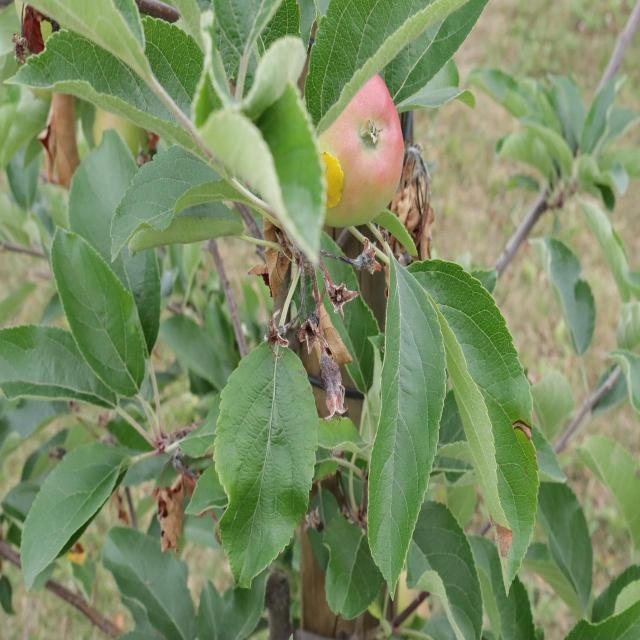-FireBlight-: (258, 221, 354, 394)
